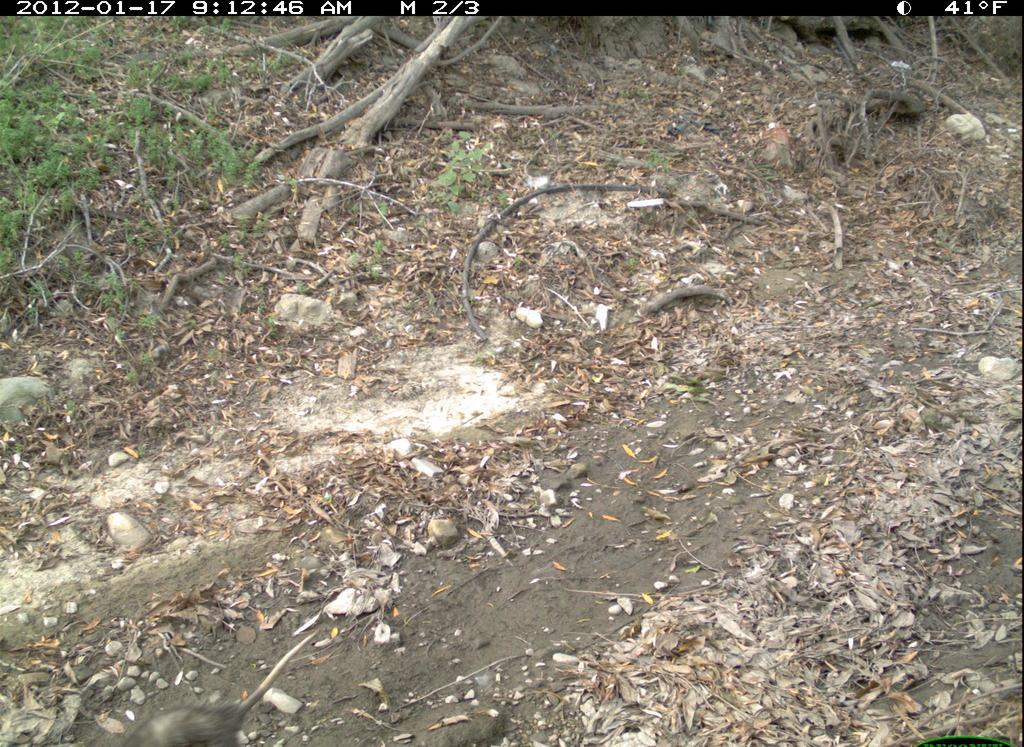opossum: (105, 642, 321, 747)
